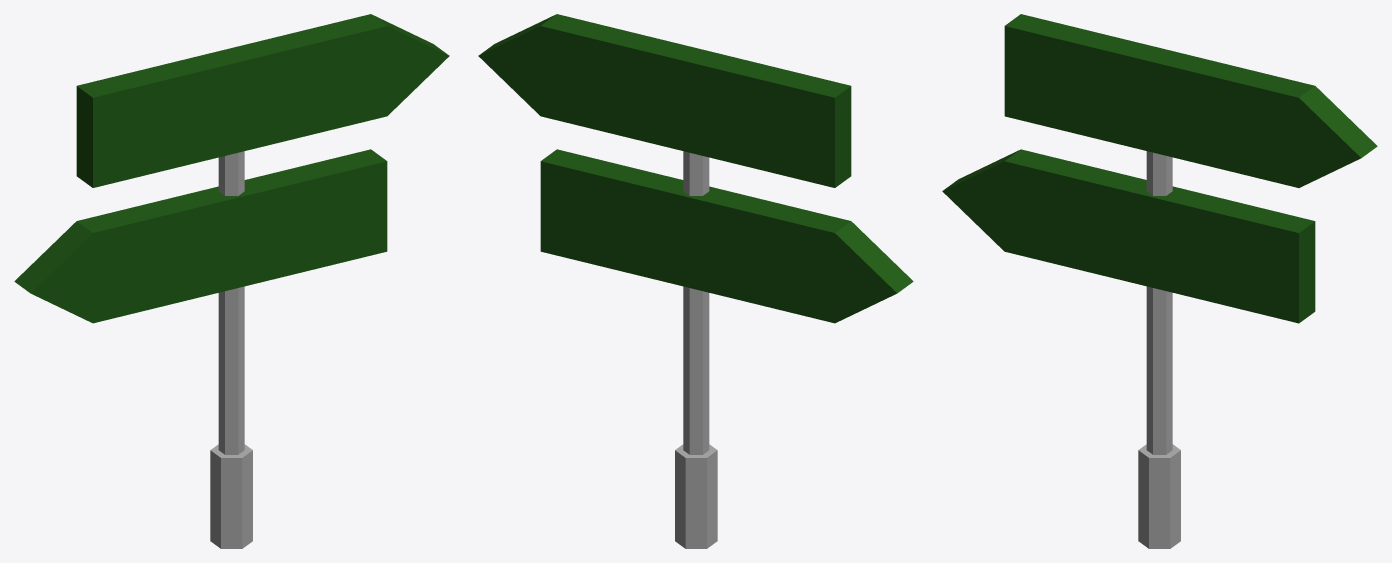
Rendered from SignBoard_07.fbx.
The picture shows the model from 3 angles, left to right: view 1: azimuth 30°, elevation 25°; view 2: azimuth 150°, elevation 25°; view 3: azimuth 330°, elevation 25°; orthographic projection.
Parts seen in each view (by area): view 1: SignBoard_07; view 2: SignBoard_07; view 3: SignBoard_07.
Part boxes in pixels (x1=…): SignBoard_07: x1=14, y1=14, x2=449, y2=548; SignBoard_07: x1=478, y1=14, x2=913, y2=548; SignBoard_07: x1=942, y1=14, x2=1377, y2=548.
Bounding box in the file's own units: 1253 × 1385 × 110.
